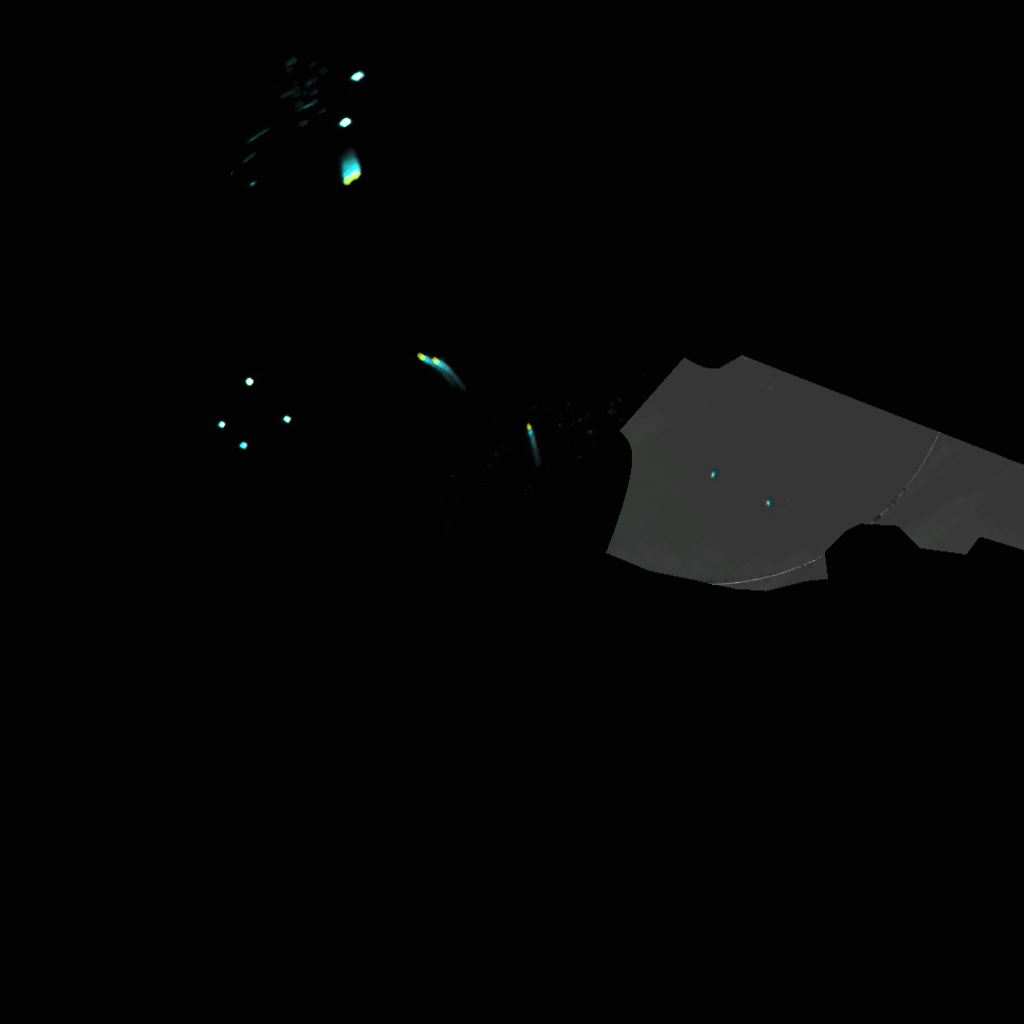B: (417, 351, 440, 372), (430, 354, 451, 374), (524, 421, 538, 448), (349, 154, 362, 181), (338, 161, 352, 185)
